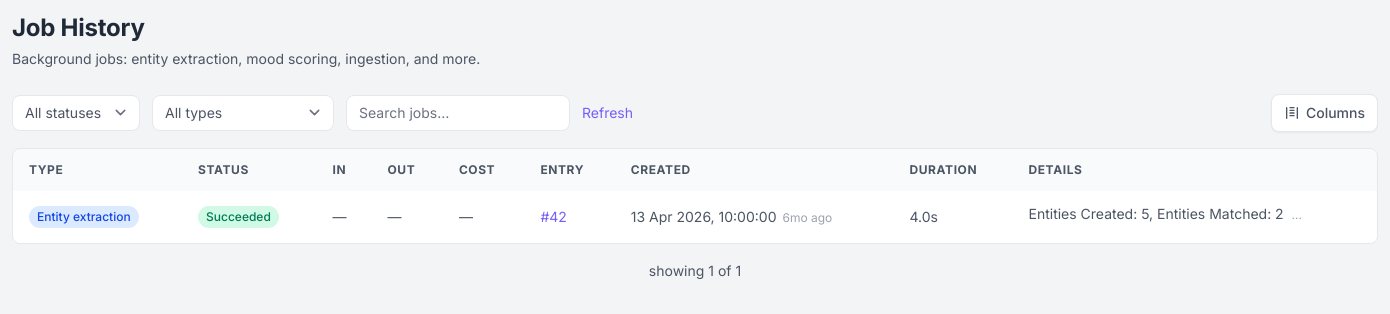
Test case: JobHistoryView › expanded details uses normal text size (no text-xs)
This screenshot has width=1390, height=314.
Click the button with test id "job-details-toggle-j-1" at point(1195, 214), box [1028,203,1361,225]
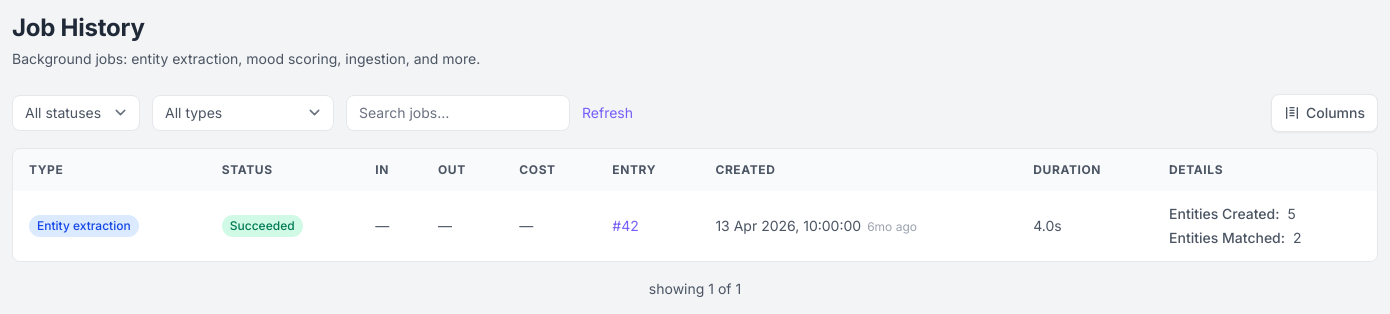
Now the element with test id "expanded-details" is shown, box [1169,205,1302,246]
